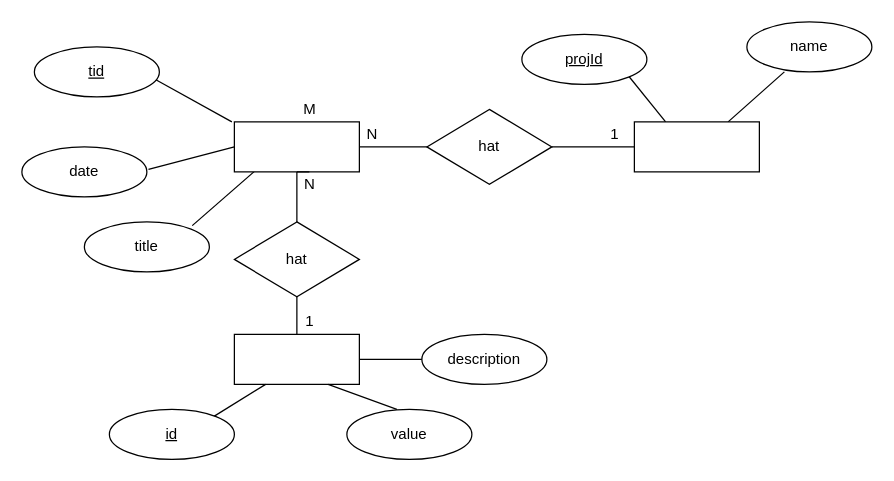
The diagram is 894 pixels wide and 481 high, and some of its shapes have lost their labels. The shapes that lost their labels are listed below. From the top down, each one's centre as x and y in pixels, then its label:
At point 296,146: "task".
At point 696,146: "project".
At point 296,358: "priority".
